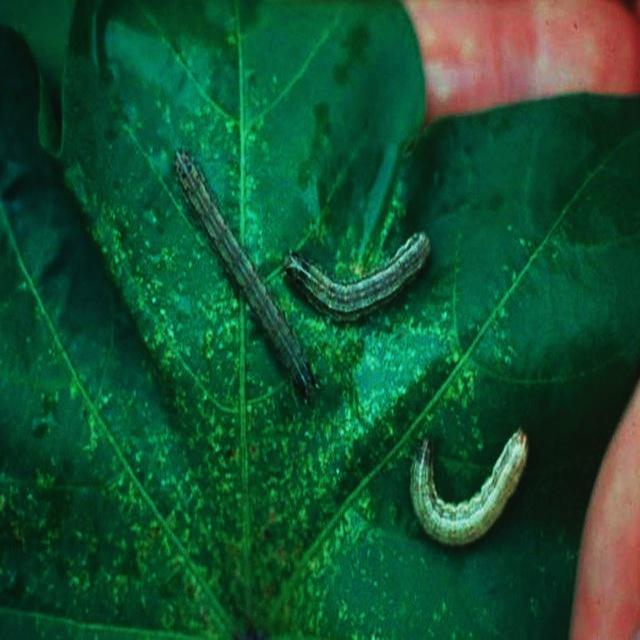worm: (171, 147, 320, 405), (409, 426, 530, 548), (282, 230, 432, 323)
